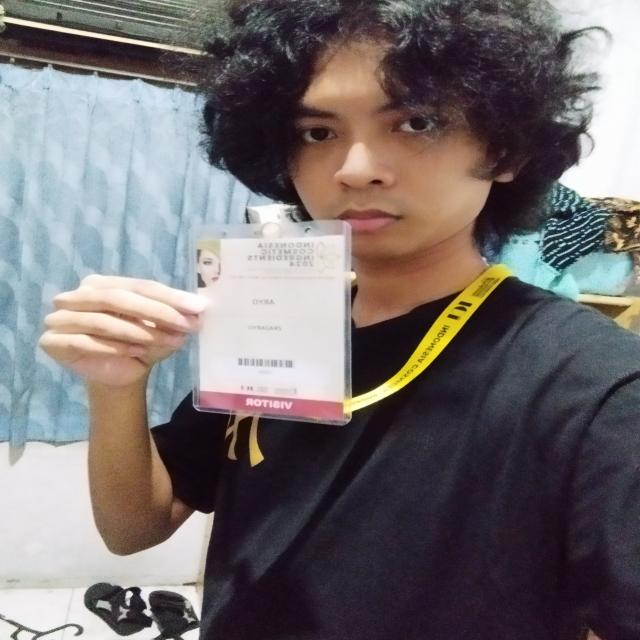ID_card: (188, 216, 353, 426)
